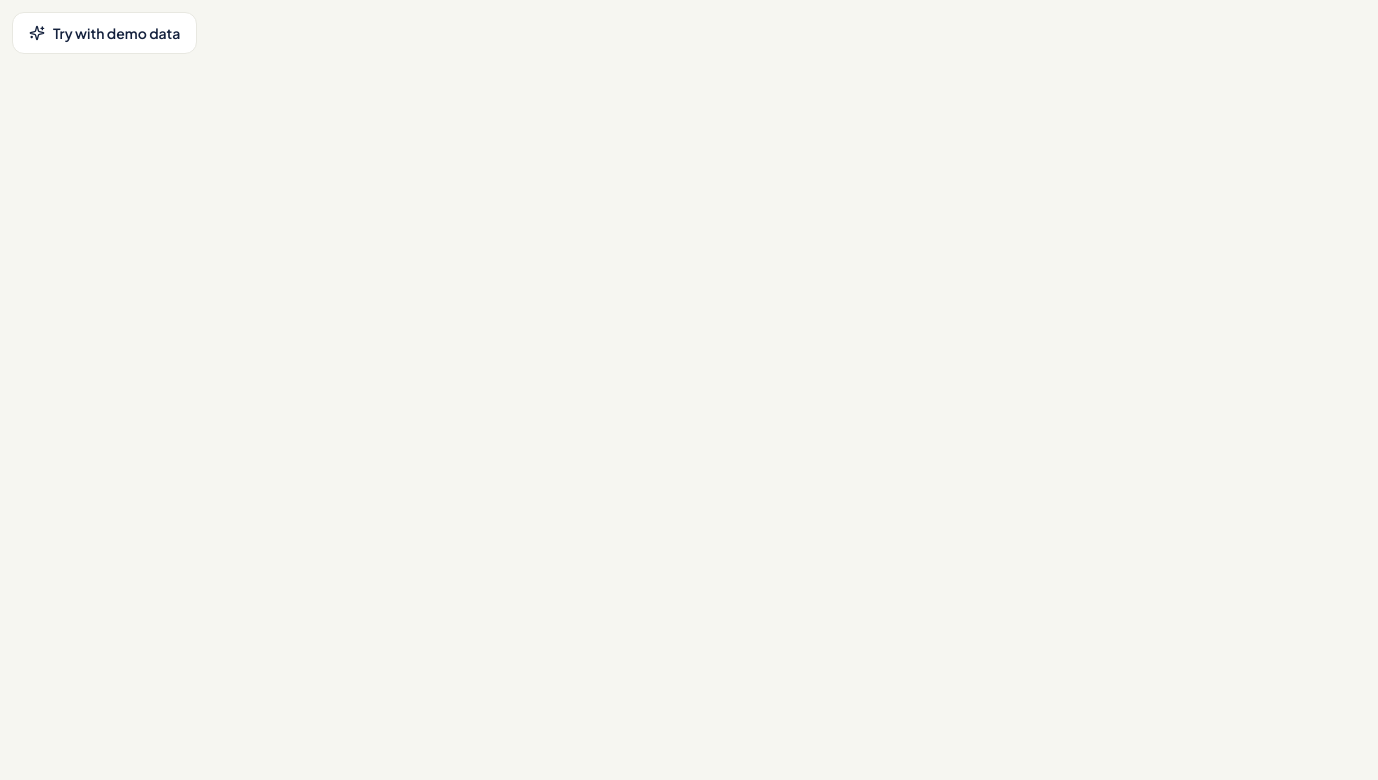
DemoDataButton › says so when the demo was already loaded
Click the button "Try with demo data".
click(105, 33)  # box [12, 12, 197, 54]
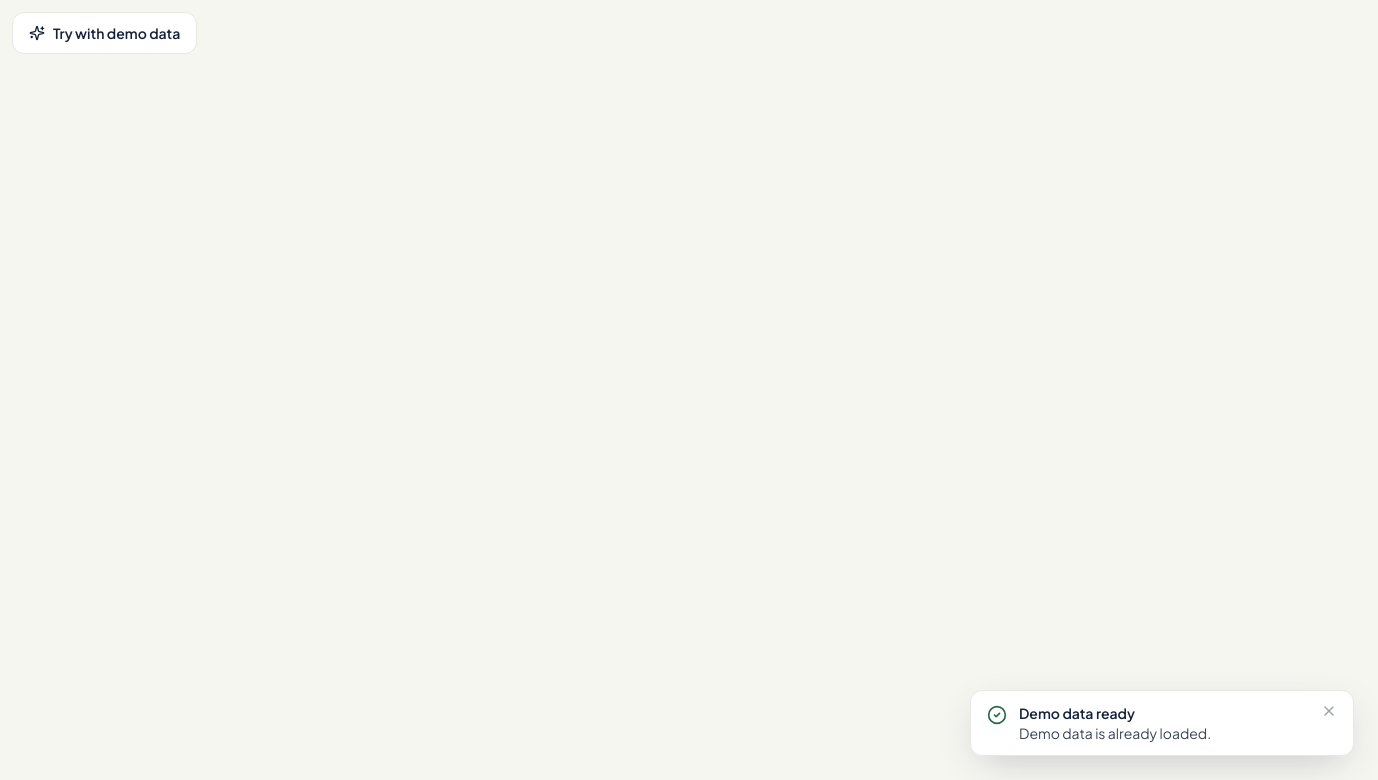
Expected: the text "Demo data is already loaded." is shown, [1019, 724, 1211, 742]
